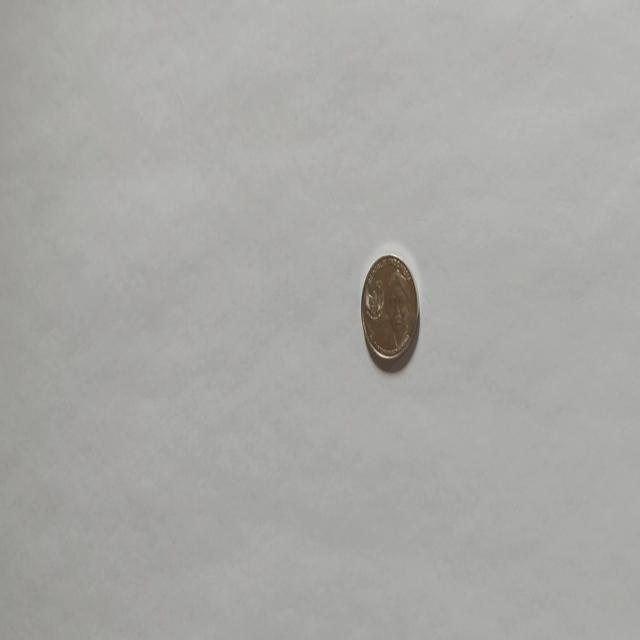dua ratus rupiah: (360, 251, 420, 369)
